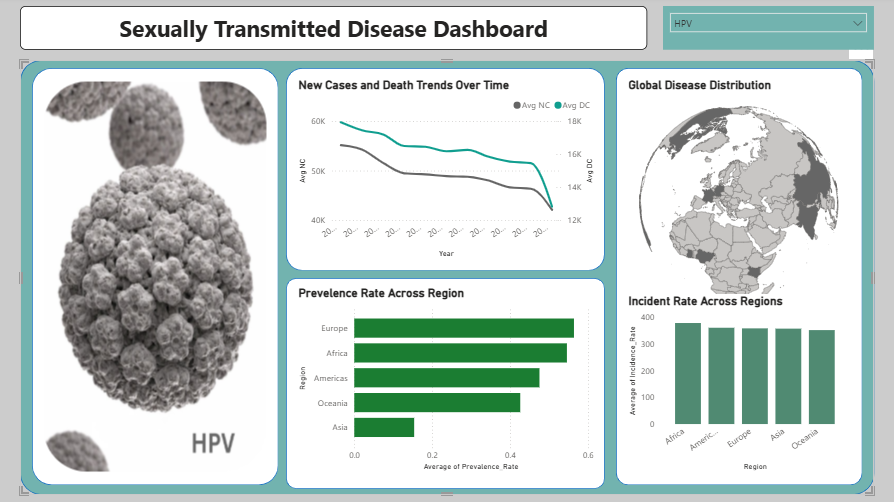

The dashboard page shown, as its layout file describes it:
{"tool":"powerbi","page":{"name":"Page 1","canvas":[1280,720],"ordinal":0},"visuals":[{"type":"shape","box":[33.6,89,1211.1,616.5],"z":0},{"type":"textbox","box":[33.6,13.4,888.6,62.2],"z":1000},{"type":"slicer","fields":{"Values":["Health Image Dataset.Disease"]},"box":[945.7,13.4,299,62.2],"z":2000},{"type":"shape","box":[878.5,100.8,349.4,591.3],"z":3000},{"type":"shape","box":[50.4,100.8,349.4,591.3],"z":4000},{"type":"shape","box":[411.5,100.8,451.9,287.2],"z":5000},{"type":"shape","box":[411.5,398.1,451.9,299],"z":6000},{"type":"imageDB603108E3FF4EBFB8047F5653368E8C","fields":{"imageUrl":["Health Image Dataset.Image URL"]},"box":[62.2,114.2,325.9,562.7],"z":7000},{"type":"lineChart","title":"New Cases and Death Trends Over Time","fields":{"Category":["Health Dataset.Year"],"Y":["Avg(Health Dataset.New_Cases)"],"Y2":["Avg(Health Dataset.Deaths)"]},"box":[423.3,114.2,428.3,258.7],"z":8000},{"type":"clusteredBarChart","title":"Prevelence Rate Across Region","fields":{"Category":["Health Dataset.Region"],"Y":["Avg(Health Dataset.Prevalence_Rate)"]},"box":[423.3,409.9,428.3,267.1],"z":10000},{"type":"shapeMap","title":"Global Disease Distribution","fields":{"Category":["Health Dataset.Country"]},"box":[892,114.2,322.5,337.6],"z":10001},{"type":"clusteredColumnChart","title":"Incident Rate Across Regions","fields":{"Category":["Health Dataset.Region"],"Y":["Avg(Health Dataset.Incidence_Rate)"]},"box":[892,421.6,322.5,255.3],"z":10002}]}

Visuals, with their boxes in screenshot pixels (x1, y1, x2, y2), scaled from the page's 1280x720 canvas onto the 894x502 screenshot:
shape: {"x1": 23, "y1": 62, "x2": 869, "y2": 492}
textbox: {"x1": 23, "y1": 9, "x2": 644, "y2": 53}
slicer - Health Image Dataset.Disease: {"x1": 661, "y1": 9, "x2": 869, "y2": 53}
shape: {"x1": 614, "y1": 70, "x2": 858, "y2": 483}
shape: {"x1": 35, "y1": 70, "x2": 279, "y2": 483}
shape: {"x1": 287, "y1": 70, "x2": 603, "y2": 271}
shape: {"x1": 287, "y1": 278, "x2": 603, "y2": 486}
imageDB603108E3FF4EBFB8047F5653368E8C - Health Image Dataset.Image URL: {"x1": 43, "y1": 80, "x2": 271, "y2": 472}
"New Cases and Death Trends Over Time" lineChart: {"x1": 296, "y1": 80, "x2": 595, "y2": 260}
"Prevelence Rate Across Region" clusteredBarChart: {"x1": 296, "y1": 286, "x2": 595, "y2": 472}
"Global Disease Distribution" shapeMap: {"x1": 623, "y1": 80, "x2": 848, "y2": 315}
"Incident Rate Across Regions" clusteredColumnChart: {"x1": 623, "y1": 294, "x2": 848, "y2": 472}
